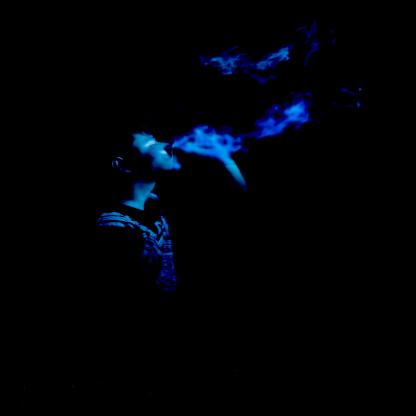smoke: (176, 69, 364, 175)
